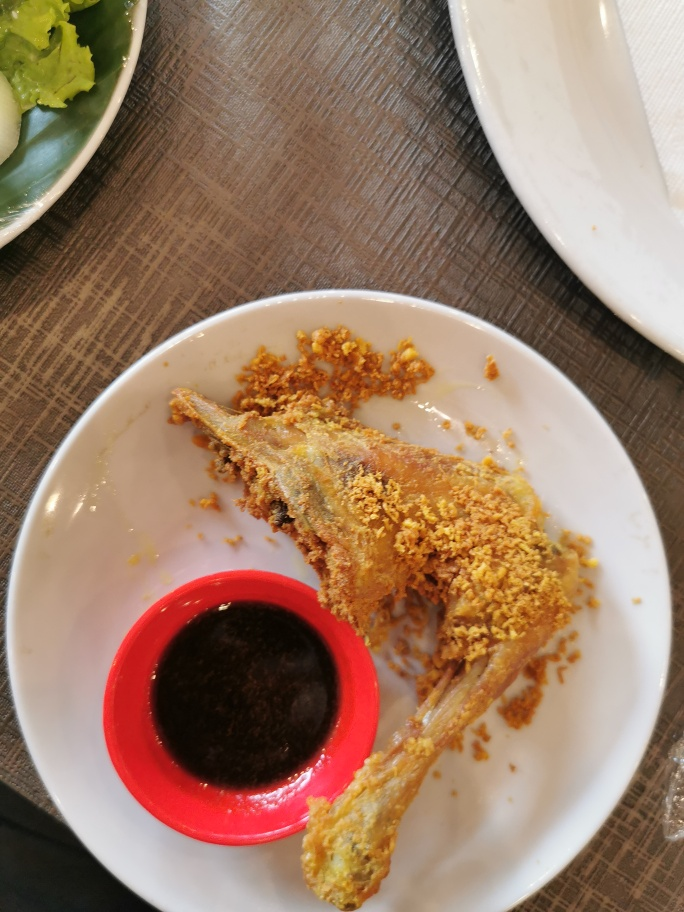ayam goreng: (168, 381, 579, 910)
kecap: (102, 565, 383, 854)
